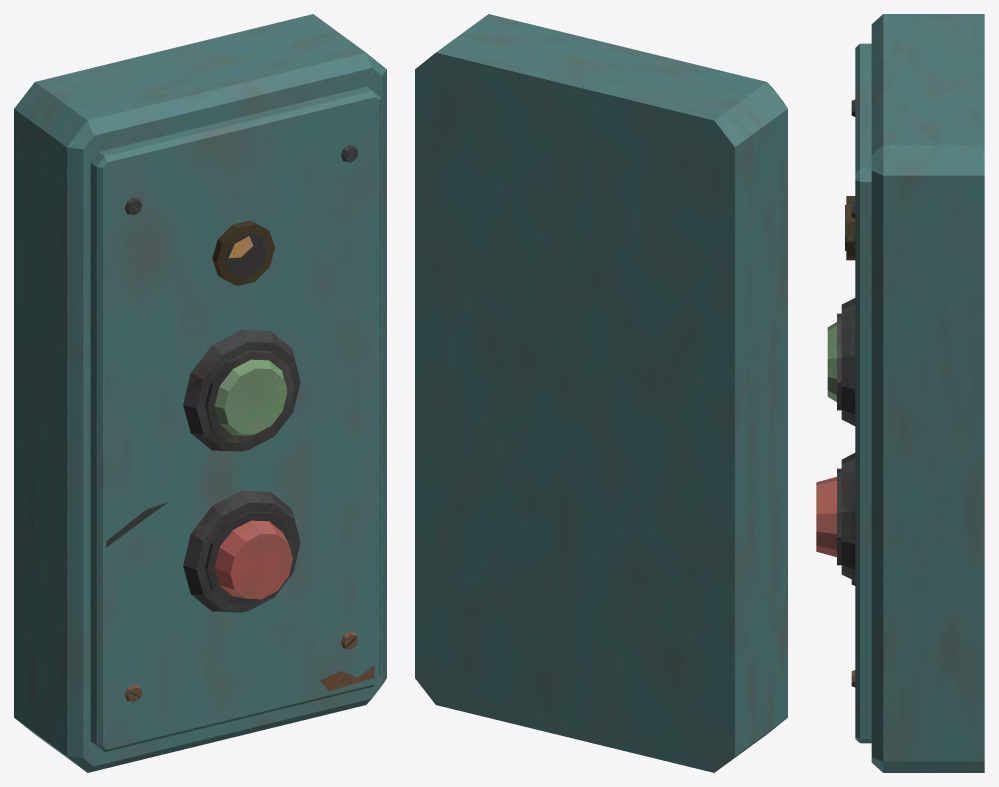
Rendered from U09_wall_switchboard_v2.glb.
3 views of the same model, side by side, from view 1: azimuth 30°, elevation 25°; view 2: azimuth 150°, elevation 25°; view 3: azimuth 270°, elevation 25° (orthographic). The views are drawn at different scales.
Visible parts, largest first — view 1: Wall Switchboard; view 2: Wall Switchboard; view 3: Wall Switchboard.
Boxes of the visible parts, x1,y1,x2,y2 form: Wall Switchboard: (14,14,386,772); Wall Switchboard: (415,14,787,772); Wall Switchboard: (816,14,984,772).
Size of the model in its own units: 0.154 by 0.3 by 0.073.
Materials: 8 (8 with a texture image).
